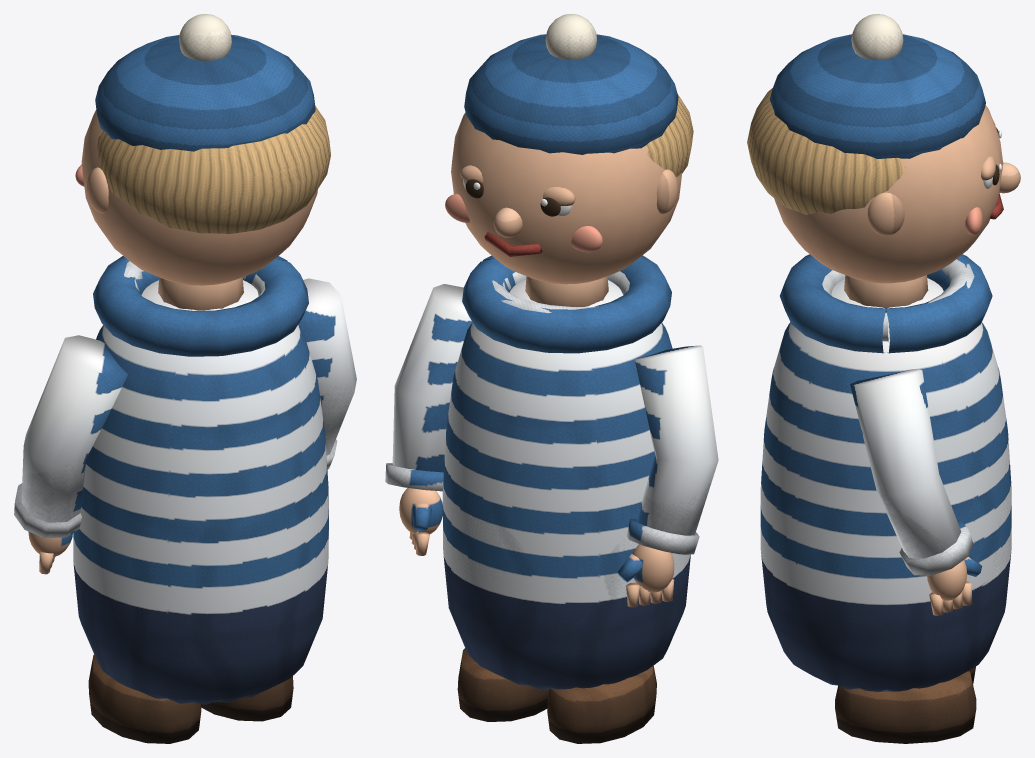
Rendered from petya.glb.
3 views of the same model, side by side, from view 1: azimuth 30°, elevation 25°; view 2: azimuth 150°, elevation 25°; view 3: azimuth 270°, elevation 25° (orthographic). The views are drawn at different scales.
Parts seen in each view (by area): view 1: Body, Head; view 2: Body, Head; view 3: Body, Head.
Boxes of the visible parts, bbox=[...] form: Body: bbox=[14, 256, 356, 743]; Head: bbox=[75, 14, 330, 285]; Body: bbox=[385, 255, 718, 743]; Head: bbox=[445, 14, 693, 284]; Body: bbox=[760, 254, 1011, 743]; Head: bbox=[747, 14, 1020, 283].
Size of the model in its own units: 0.8423 by 1.74 by 0.63.
Materials: 1 (1 with a texture image).
